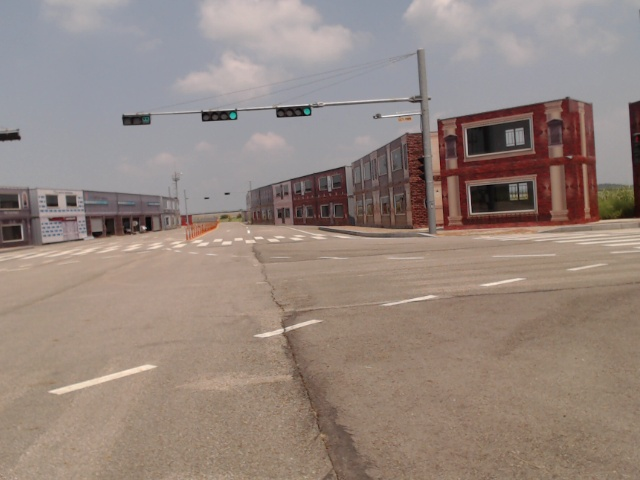straight_green_4: (277, 104, 312, 117), (203, 110, 237, 122)
